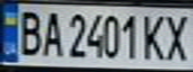0: (103, 11, 121, 60)
1: (121, 11, 142, 60)
2: (63, 9, 87, 60)
4: (84, 10, 106, 60)
A: (39, 8, 66, 57)
B: (12, 7, 45, 56)
K: (139, 11, 169, 61)
X: (160, 11, 193, 62)
